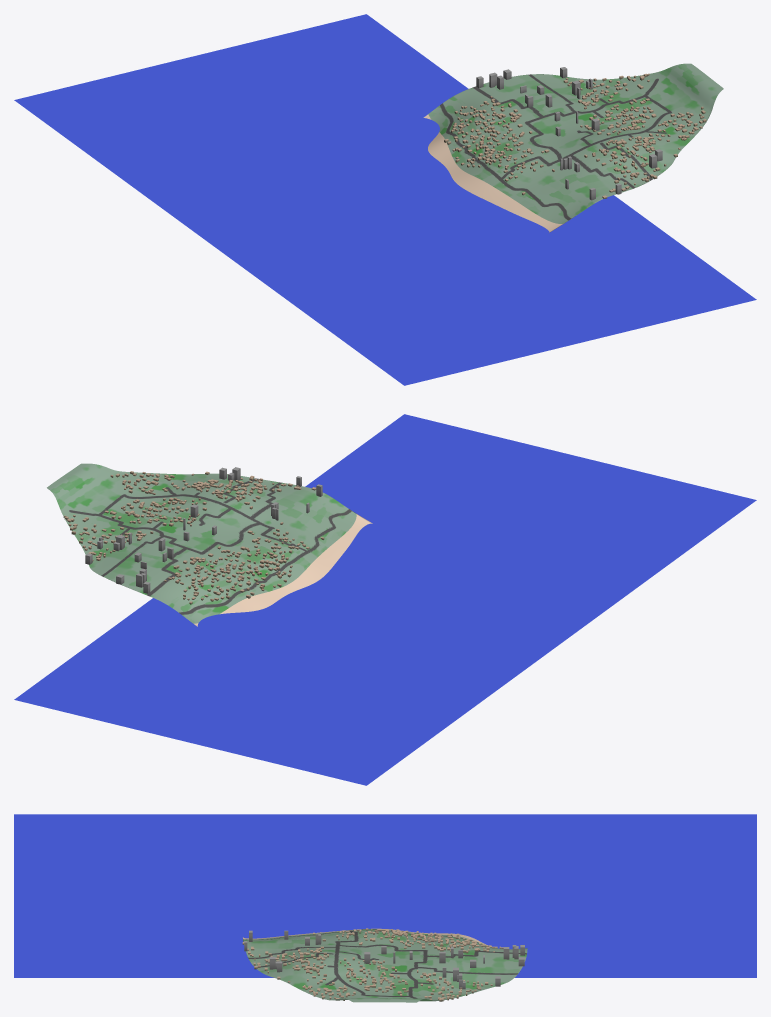
Rendered from mid_city.fbx.
3 views of the same model, one above another, from view 1: azimuth 30°, elevation 25°; view 2: azimuth 150°, elevation 25°; view 3: azimuth 270°, elevation 25° (orthographic). The views are drawn at different scales.
Parts seen in each view (by area): view 1: Plane.001, Plane.002; view 2: Plane.001, Plane.002; view 3: Plane.001, Plane.002.
Boxes of the visible parts, box(x1,y1,x2,y2) form: Plane.001: box(14, 14, 756, 385); Plane.002: box(423, 63, 723, 232); Plane.001: box(14, 414, 756, 785); Plane.002: box(47, 463, 372, 626); Plane.001: box(14, 814, 756, 977); Plane.002: box(243, 928, 527, 1002).
Bounding box in the file's own units: 865 × 95.71 × 1173.
Materials: 5 (3 with a texture image).
